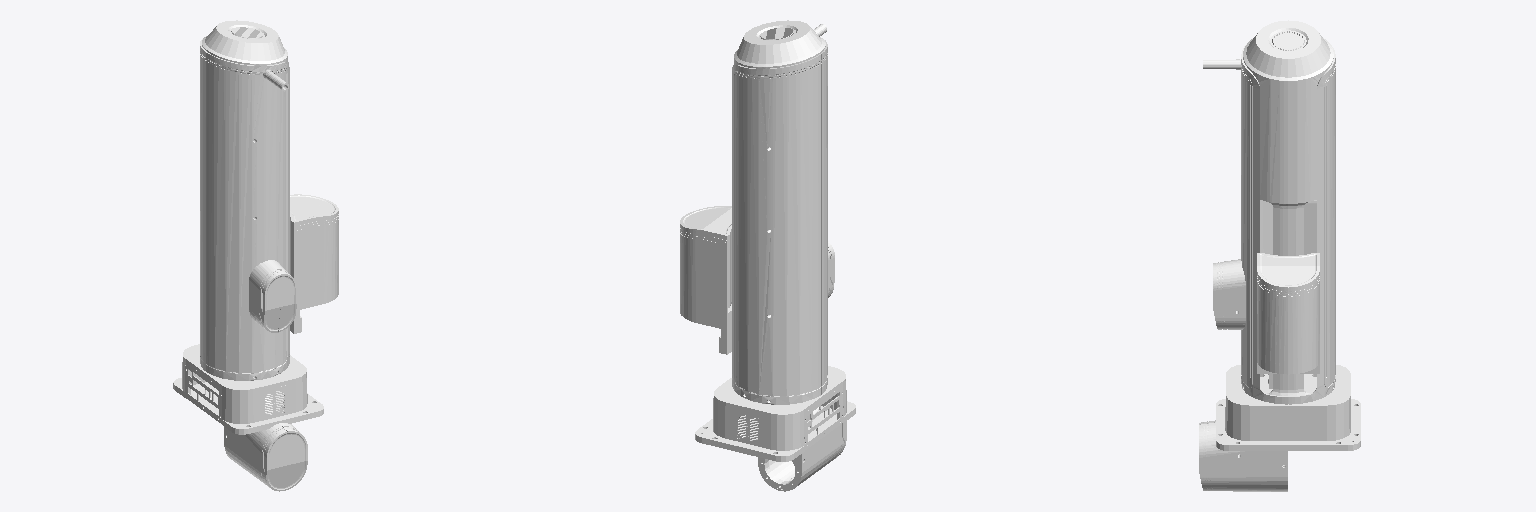
URDF robot description (cr3_robot):
<?xml version="1.0" encoding="utf-8"?>
<!-- This URDF was automatically created by SolidWorks to URDF Exporter! Originally created by [author] ([email redacted]) 
     Commit Version: 1.6.0-1-g15f4949  Build Version: 1.6.7594.29634
     For more information, please see http://wiki.ros.org/sw_urdf_exporter -->
<robot
  name="cr3_robot">
  <link name="dummy_link" />
  <link
    name="base_link">
    <inertial>
      <origin
        xyz="-0.0027213 3.915E-07 0.022038"
        rpy="0 0 0" />
      <mass
        value="0.653" />
      <inertia
        ixx="0.00075137"
        ixy="-3.0366E-08"
        ixz="1.2825E-06"
        iyy="0.00080094"
        iyz="2.5423E-09"
        izz="0.0010902" />
    </inertial>
    <visual>
      <origin
        xyz="0 0 0"
        rpy="0 0 0" />
      <geometry>
        <mesh
          filename="package://cr_description/meshes/cr3/base_link.STL" />
      </geometry>
      <material
        name="">
        <color
          rgba="1 1 1 1" />
      </material>
    </visual>
    <collision>
      <origin
        xyz="0 0 0"
        rpy="0 0 0" />
      <geometry>
        <mesh
          filename="package://cr_description/meshes/cr3/base_link.STL" />
      </geometry>
    </collision>
  </link>

    <joint name="dummy_joint" type="fixed">
      <parent link="dummy_link" />
      <child  link="base_link" />
    </joint>

  <link
    name="Link1">
    <inertial>
      <origin
        xyz="-3.68657602416735E-05 -0.00394516685385322 0.00364037839421286"
        rpy="0 0 0" />
      <mass
        value="1.31100598822002" />
      <inertia
        ixx="0.00202531167977736"
        ixy="-1.62039964254407E-06"
        ixz="4.44242218921916E-07"
        iyy="0.00198085794611413"
        iyz="0.000256891817572315"
        izz="0.00183966900872187" />
    </inertial>
    <visual>
      <origin
        xyz="0 0 0"
        rpy="0 0 0" />
      <geometry>
        <mesh
          filename="package://cr_description/meshes/cr3/Link1.STL" />
      </geometry>
      <material
        name="">
        <color
          rgba="1 1 1 1" />
      </material>
    </visual>
    <collision>
      <origin
        xyz="0 0 0"
        rpy="0 0 0" />
      <geometry>
        <mesh
          filename="package://cr_description/meshes/cr3/Link1.STL" />
      </geometry>
    </collision>
  </link>
  <joint
    name="joint1"
    type="revolute">
    <origin
      xyz="0 0 0.1283"
      rpy="0 0 0" />
    <parent
      link="base_link" />
    <child
      link="Link1" />
    <axis
      xyz="0 0 1" />
    <limit
      lower="-3.14"
      upper="3.14"
      effort="0"
      velocity="0" />
  </joint>
  <link
    name="Link2">
    <inertial>
      <origin
        xyz="-0.129235280055448 1.440541622715E-05 0.133173619961293"
        rpy="0 0 0" />
      <mass
        value="3.40043726977504" />
      <inertia
        ixx="0.00450581324845612"
        ixy="1.58054368766225E-06"
        ixz="8.56287041890268E-05"
        iyy="0.00632329822349442"
        iyz="-4.41201729949356E-07"
        izz="0.00578241711656701" />
    </inertial>
    <visual>
      <origin
        xyz="0 0 0"
        rpy="0 0 0" />
      <geometry>
        <mesh
          filename="package://cr_description/meshes/cr3/Link2.STL" />
      </geometry>
      <material
        name="">
        <color
          rgba="1 1 1 1" />
      </material>
    </visual>
    <collision>
      <origin
        xyz="0 0 0"
        rpy="0 0 0" />
      <geometry>
        <mesh
          filename="package://cr_description/meshes/cr3/Link2.STL" />
      </geometry>
    </collision>
  </link>
  <joint
    name="joint2"
    type="revolute">
    <origin
      xyz="0 0 0"
      rpy="1.5708 1.5708 0" />
    <parent
      link="Link1" />
    <child
      link="Link2" />
    <axis
      xyz="0 0 1" />
    <limit
      lower="-3.14"
      upper="3.14"
      effort="0"
      velocity="0" />
  </joint>
  <link
    name="Link3">
    <inertial>
      <origin
        xyz="-0.119822632176479 8.63344146663093E-08 0.0099876637825216"
        rpy="0 0 0" />
      <mass
        value="2.21449412948544" />
      <inertia
        ixx="0.00236120280734313"
        ixy="1.81888962826726E-08"
        ixz="0.000137629457194959"
        iyy="0.00313635345351584"
        iyz="-1.39166877342495E-08"
        izz="0.00285118872456311" />
    </inertial>
    <visual>
      <origin
        xyz="0 0 0"
        rpy="0 0 0" />
      <geometry>
        <mesh
          filename="package://cr_description/meshes/cr3/Link3.STL" />
      </geometry>
      <material
        name="">
        <color
          rgba="1 1 1 1" />
      </material>
    </visual>
    <collision>
      <origin
        xyz="0 0 0"
        rpy="0 0 0" />
      <geometry>
        <mesh
          filename="package://cr_description/meshes/cr3/Link3.STL" />
      </geometry>
    </collision>
  </link>
  <joint
    name="joint3"
    type="revolute">
    <origin
      xyz="-0.274 0 0"
      rpy="0 0 0" />
    <parent
      link="Link2" />
    <child
      link="Link3" />
    <axis
      xyz="0 0 1" />
    <limit
      lower="-2.86"
      upper="2.86"
      effort="0"
      velocity="0" />
  </joint>
  <link
    name="Link4">
    <inertial>
      <origin
        xyz="1.74679534498573E-07 0.0034522361215461 -0.0028730999658578"
        rpy="0 0 0" />
      <mass
        value="0.842272956366123" />
      <inertia
        ixx="0.00100389823526424"
        ixy="-3.26498724132116E-09"
        ixz="-3.83652674720848E-09"
        iyy="0.000793473566890046"
        iyz="0.000133420135294005"
        izz="0.000993889852029541" />
    </inertial>
    <visual>
      <origin
        xyz="0 0 0"
        rpy="0 0 0" />
      <geometry>
        <mesh
          filename="package://cr_description/meshes/cr3/Link4.STL" />
      </geometry>
      <material
        name="">
        <color
          rgba="1 1 1 1" />
      </material>
    </visual>
    <collision>
      <origin
        xyz="0 0 0"
        rpy="0 0 0" />
      <geometry>
        <mesh
          filename="package://cr_description/meshes/cr3/Link4.STL" />
      </geometry>
    </collision>
  </link>
  <joint
    name="joint4"
    type="revolute">
    <origin
      xyz="-0.23 0 0.1283"
      rpy="0 0 -1.5708" />
    <parent
      link="Link3" />
    <child
      link="Link4" />
    <axis
      xyz="0 0 1" />
    <limit
      lower="-3.14"
      upper="3.14"
      effort="0"
      velocity="0" />
  </joint>
  <link
    name="Link5">
    <inertial>
      <origin
        xyz="-1.74603758796282E-07 -0.00333192403958193 -0.00286780844130663"
        rpy="0 0 0" />
      <mass
        value="0.843692877114241" />
      <inertia
        ixx="0.0010085532680982"
        ixy="-7.28325271824168E-09"
        ixz="9.25818664621925E-09"
        iyy="0.000794614679668754"
        iyz="-0.000133904812596915"
        izz="0.000998497358703575" />
    </inertial>
    <visual>
      <origin
        xyz="0 0 0"
        rpy="0 0 0" />
      <geometry>
        <mesh
          filename="package://cr_description/meshes/cr3/Link5.STL" />
      </geometry>
      <material
        name="">
        <color
          rgba="1 1 1 1" />
      </material>
    </visual>
    <collision>
      <origin
        xyz="0 0 0"
        rpy="0 0 0" />
      <geometry>
        <mesh
          filename="package://cr_description/meshes/cr3/Link5.STL" />
      </geometry>
    </collision>
  </link>
  <joint
    name="joint5"
    type="revolute">
    <origin
      xyz="0 -0.116 0"
      rpy="1.5708 0 0" />
    <parent
      link="Link4" />
    <child
      link="Link5" />
    <axis
      xyz="0 0 1" />
    <limit
      lower="-3.14"
      upper="3.14"
      effort="0"
      velocity="0" />
  </joint>
  <link
    name="Link6">
    <inertial>
      <origin
        xyz="-5.77233004964394E-07 0.000270130842674243 -0.0201386770129675"
        rpy="0 0 0" />
      <mass
        value="0.159409278145106" />
      <inertia
        ixx="8.29484481057063E-05"
        ixy="-1.45209400395148E-09"
        ixz="-1.72340872805449E-11"
        iyy="8.35928339777967E-05"
        iyz="-1.33911019721127E-07"
        izz="0.000131911087085913" />
    </inertial>
    <visual>
      <origin
        xyz="0 0 0"
        rpy="0 0 0" />
      <geometry>
        <mesh
          filename="package://cr_description/meshes/cr3/Link6.STL" />
      </geometry>
      <material
        name="">
        <color
          rgba="1 1 1 1" />
      </material>
    </visual>
    <collision>
      <origin
        xyz="0 0 0"
        rpy="0 0 0" />
      <geometry>
        <mesh
          filename="package://cr_description/meshes/cr3/Link6.STL" />
      </geometry>
    </collision>
  </link>
  <joint
    name="joint6"
    type="revolute">
    <origin
      xyz="0 0.105 0"
      rpy="-1.5708 0 0" />
    <parent
      link="Link5" />
    <child
      link="Link6" />
    <axis
      xyz="0 0 1" />
    <limit
      lower="-6.28"
      upper="6.28"
      effort="0"
      velocity="0" />
  </joint>
</robot>

--- Facts derived from the render (not from the file) ---
3 views of the same robot in one strip: view 1: azimuth 30°, elevation 25°; view 2: azimuth 150°, elevation 25°; view 3: azimuth 270°, elevation 25° (orthographic).
Model cr3_robot with 8 links and 7 joints (6 revolute, 1 fixed), rooted at dummy_link, posed all joints at 0.
Links seen in each view (by area): view 1: base_link, Link1, Link2, Link3; view 2: base_link, Link1, Link2; view 3: base_link, Link1, Link2, Link3.
Link boxes in pixels (<box>): base_link: <box>173,20,323,434</box>; Link1: <box>290,194,338,333</box>; Link2: <box>224,394,307,491</box>; Link3: <box>249,260,296,332</box>; base_link: <box>695,20,855,461</box>; Link1: <box>680,206,731,354</box>; Link2: <box>758,407,846,491</box>; base_link: <box>1216,20,1360,450</box>; Link1: <box>1257,253,1319,374</box>; Link2: <box>1199,374,1287,491</box>; Link3: <box>1213,200,1316,329</box>.
Size in the robot's own frame: 0.2535 by 0.2572 by 0.799 metres.
5 mesh visuals loaded from 7 distinct referenced files (5 binary STL); not drawn: 2 (reference not matched to a file when rendering).
